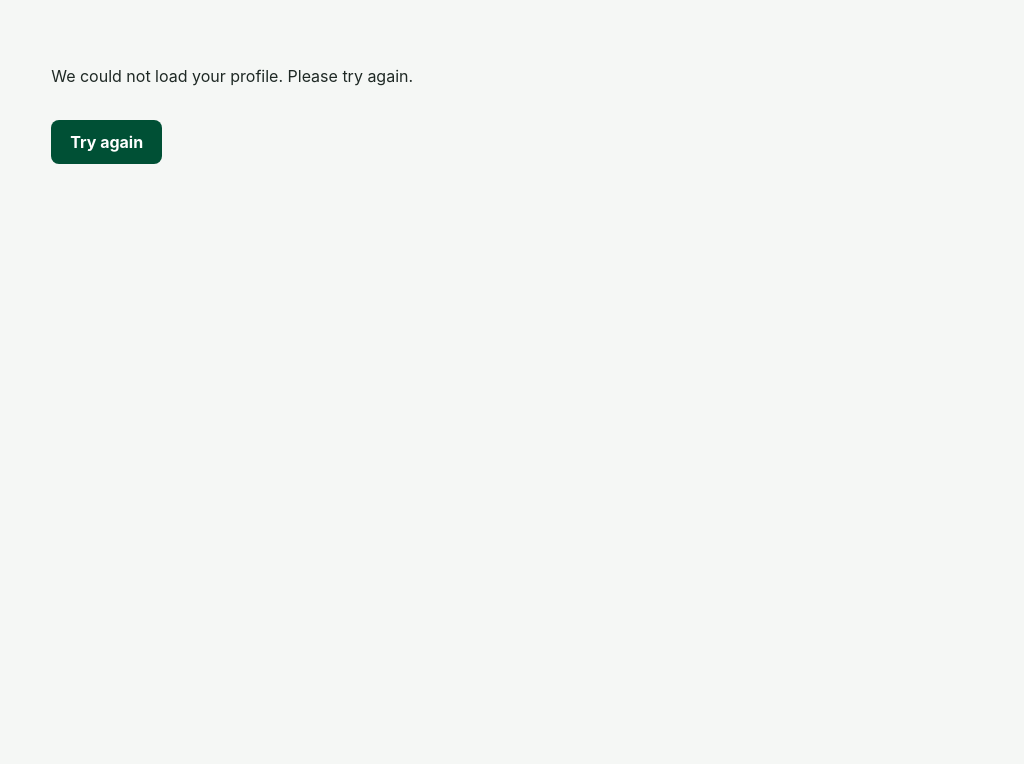
Test case: reports load failures and retries instead of displaying fictional fallback data
Expected: the message shows "could not load", [51,66,413,86]
Expected: the text "James Peterson" is not shown
Click the button "Try again": [107, 142] box [51,120,162,164]
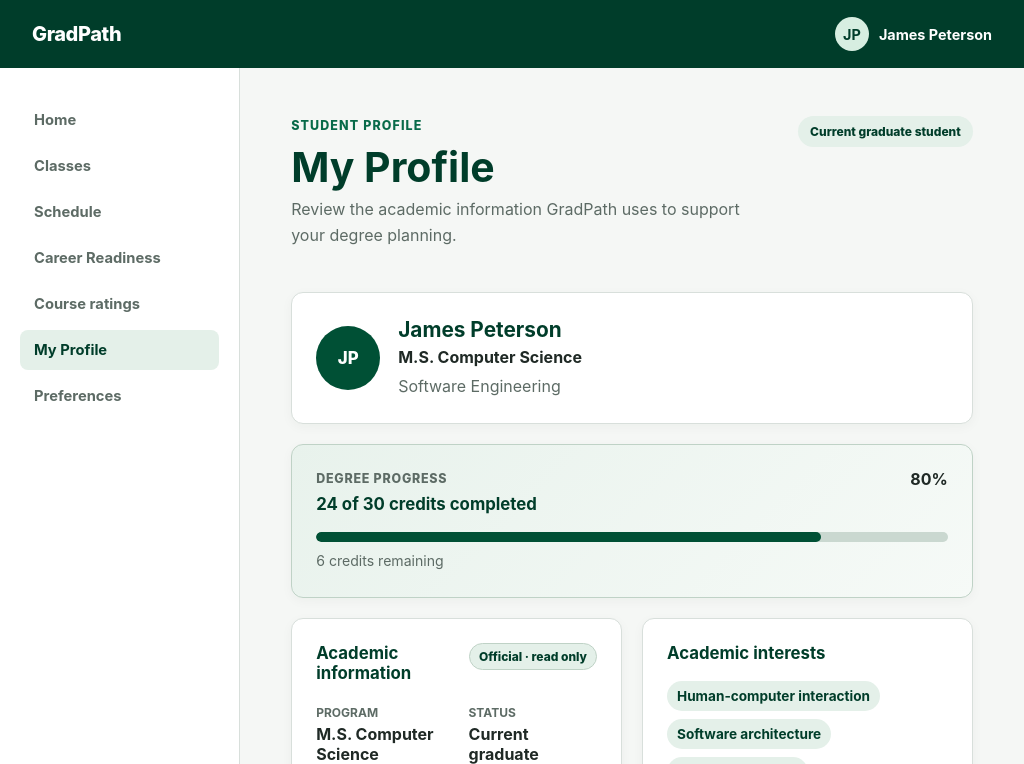
Expected: the heading "James Peterson" is shown, [398,317,582,342]
